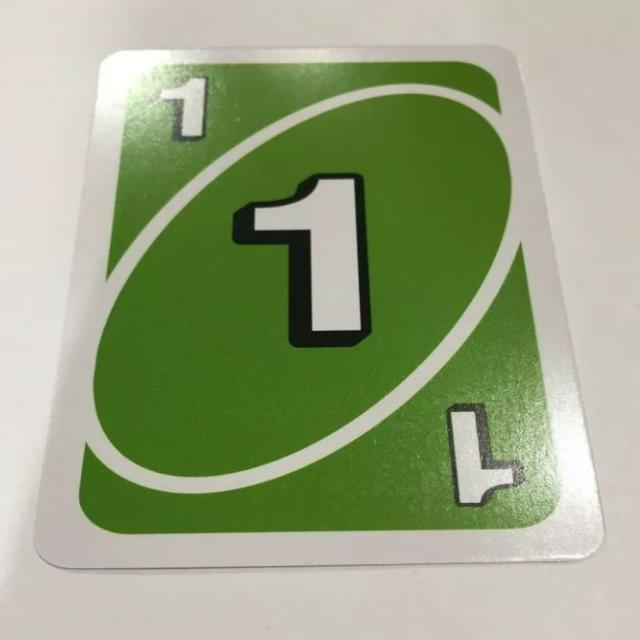Green_Card: (72, 60, 569, 541)
Number_1: (143, 75, 225, 146)
